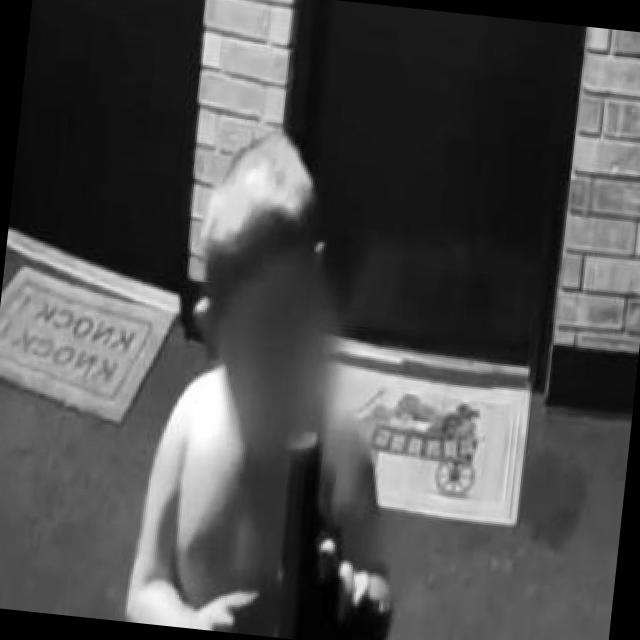Guns: (219, 405, 428, 640)
